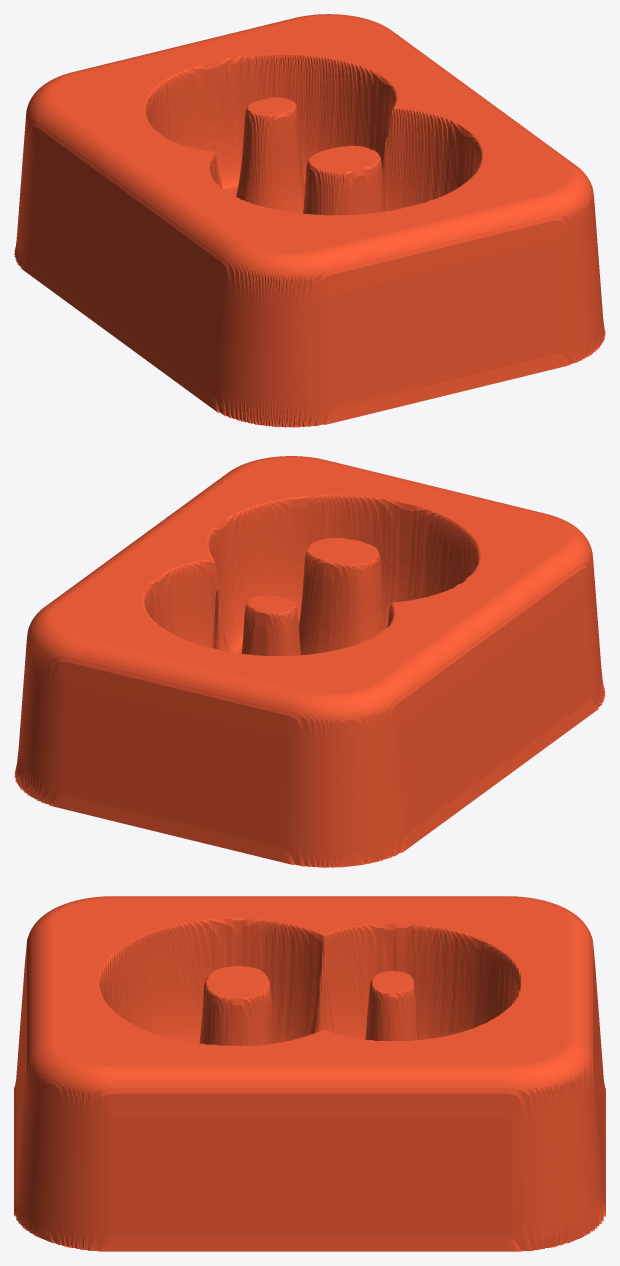
The model's file is mold.glb.
The picture shows the model from 3 angles, top to bottom: view 1: azimuth 30°, elevation 25°; view 2: azimuth 150°, elevation 25°; view 3: azimuth 270°, elevation 25°; orthographic projection. The views are drawn at different scales.
Visible parts, largest first — view 1: geometry_0; view 2: geometry_0; view 3: geometry_0.
Boxes of the visible parts, left/top/right/bottom form: geometry_0: left=14, top=14, right=605, bottom=427; geometry_0: left=14, top=456, right=605, bottom=867; geometry_0: left=14, top=896, right=605, bottom=1251.
Bounding box in the file's own units: 0.0432 × 0.0172 × 0.0542.
